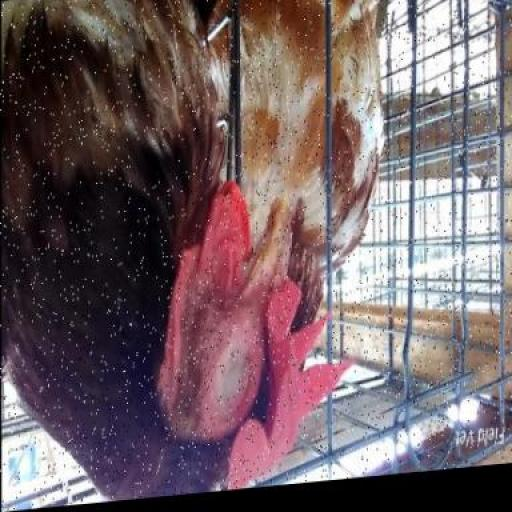disease: (189, 271, 279, 460)
